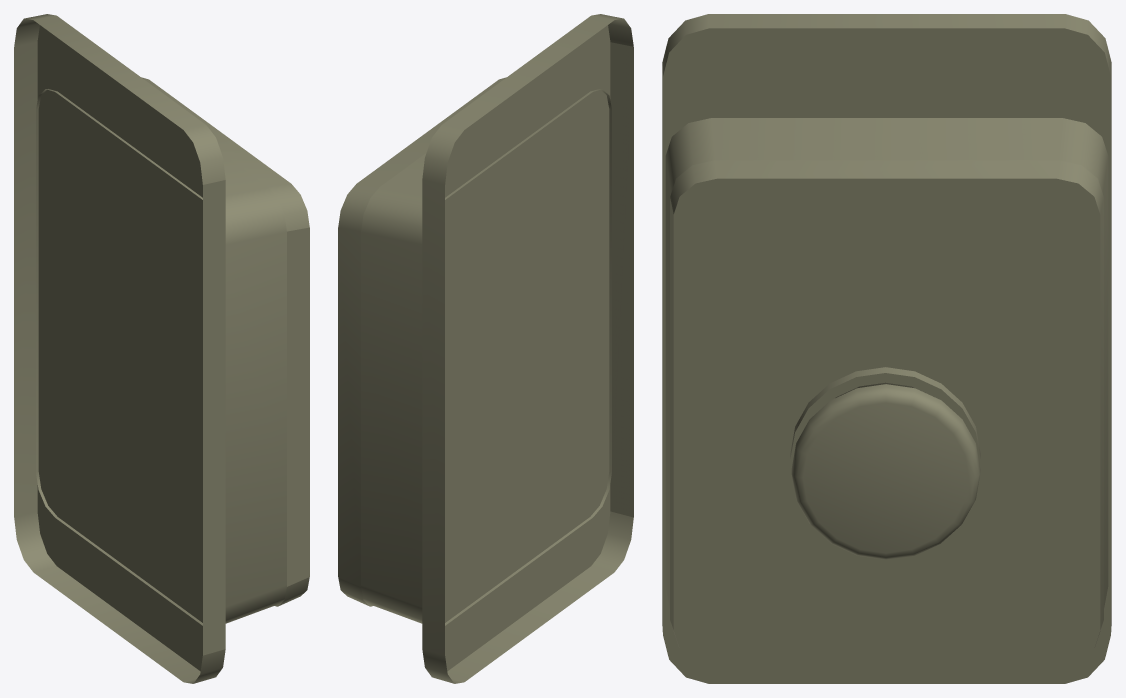
3 views of the same model, side by side, from view 1: azimuth 30°, elevation 25°; view 2: azimuth 150°, elevation 25°; view 3: azimuth 270°, elevation 25° (orthographic). The views are drawn at different scales.
Visible parts, largest first — view 1: Object_2; view 2: Object_2; view 3: Object_2.
Boxes of the visible parts, x1=… form: Object_2: x1=14, y1=14, x2=309, y2=683; Object_2: x1=338, y1=14, x2=633, y2=683; Object_2: x1=662, y1=14, x2=1111, y2=683.
Bounding box in the file's own units: 1.4 × 4.78 × 2.96.
